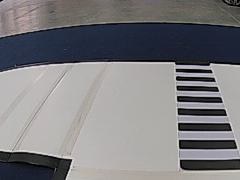CrossWalk: (171, 57, 239, 173)
